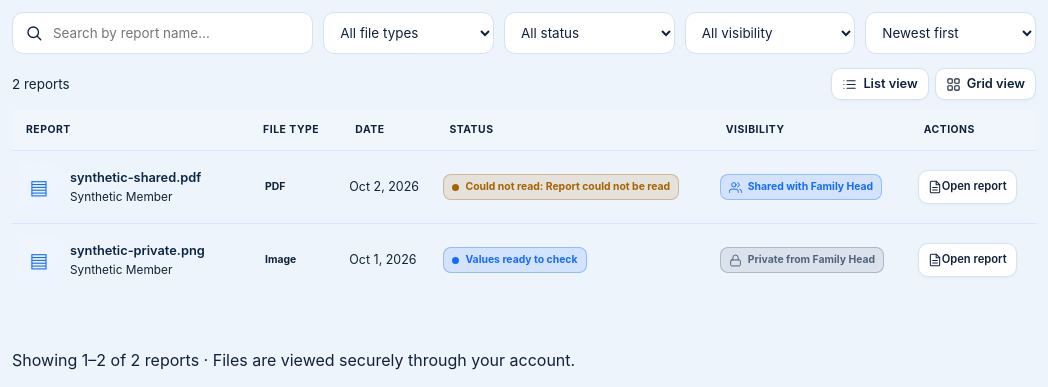
Scenario: ReportLibrary controls › combines filename search and privacy filtering without fetching another profile
Select "Private" in the 3rd dropdown named "Report visibility" at coordinates (770, 33), box top-left (685, 12), bottom-right (855, 54)
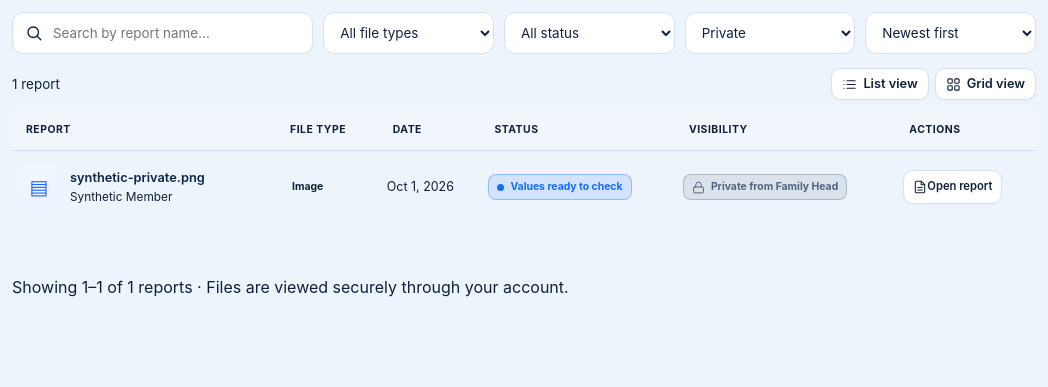
Expected: the text "synthetic-private.png" is shown, top-left (70, 168), bottom-right (205, 188)
Expected: the text "synthetic-shared.pdf" is gone
Type "shared" into the search field named "Search reports" at coordinates (176, 33), box top-left (51, 22), bottom-right (300, 44)
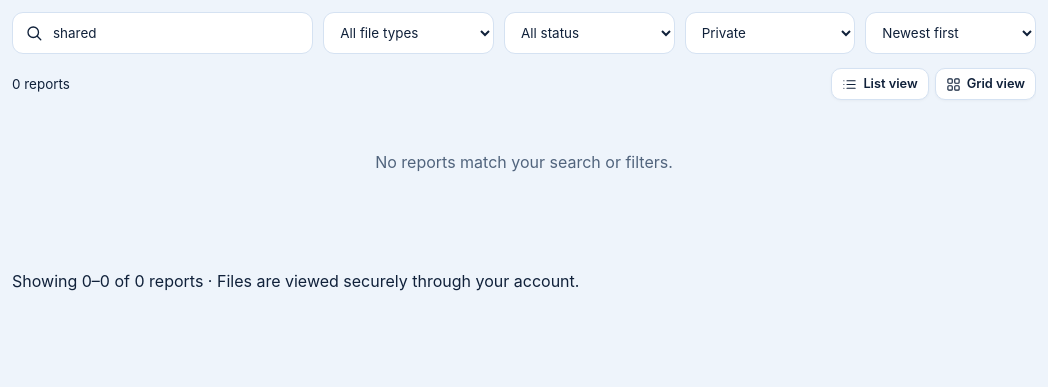
Expected: the text "synthetic-private.png" is gone
Select "All visibility" in the 3rd dropdown named "Report visibility" at coordinates (770, 33), box top-left (685, 12), bottom-right (855, 54)
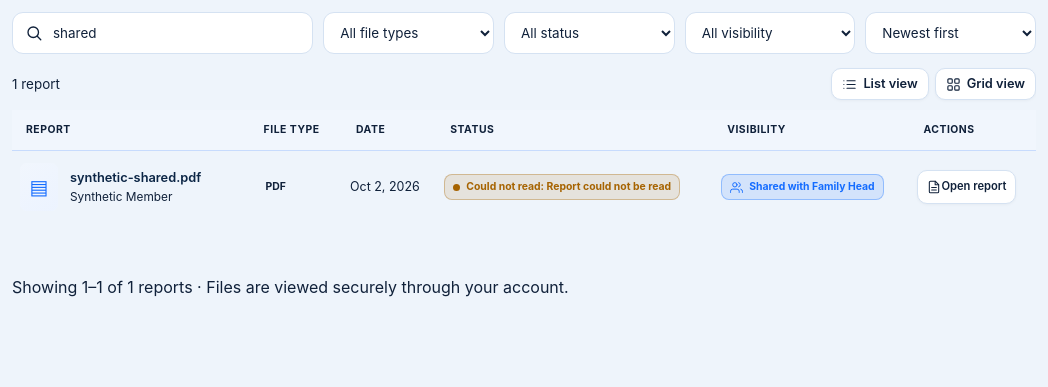
Expected: the text "synthetic-shared.pdf" is shown, top-left (70, 168), bottom-right (201, 188)
